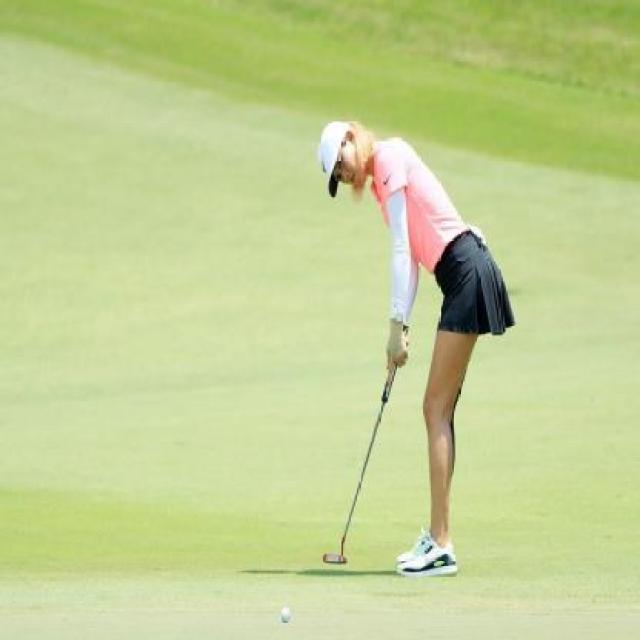club head: (322, 540, 348, 565)
